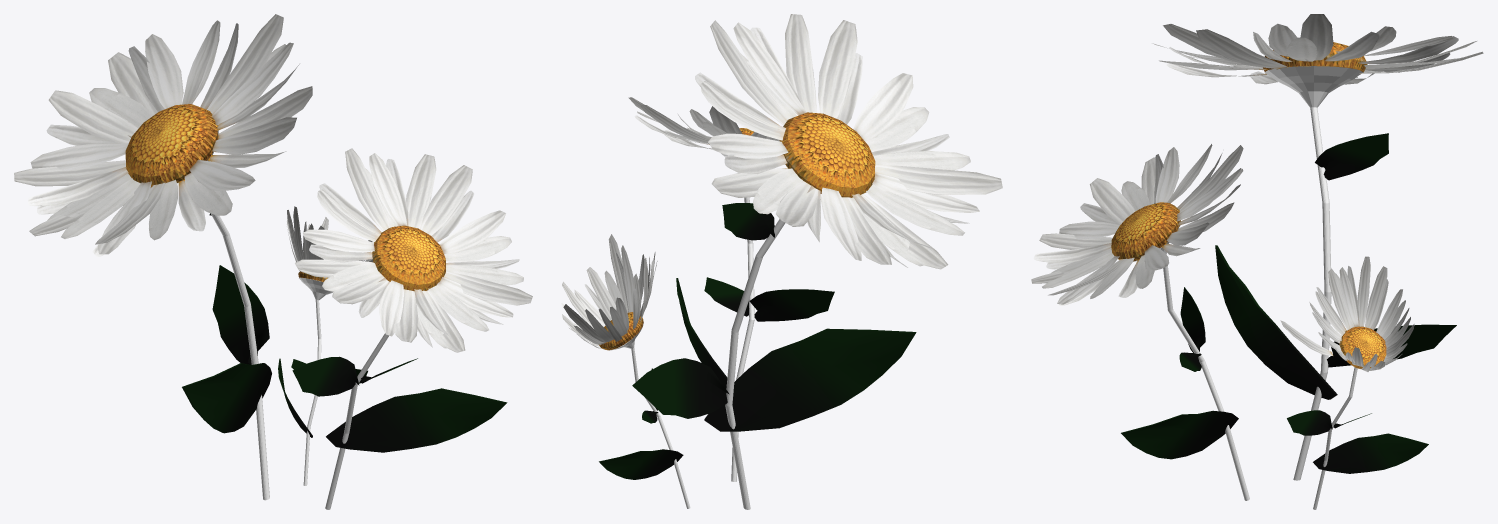
File: daisy_stage_02.FBX
The picture shows the model from 3 angles, left to right: view 1: azimuth 30°, elevation 25°; view 2: azimuth 150°, elevation 25°; view 3: azimuth 270°, elevation 25°; orthographic projection. The views are drawn at different scales.
Visible parts, largest first — view 1: Leaf004, Ovary, Leaf01, Ovary001, Leaf02, Petal_Layer_02_05, Petal_Layer_02_06, Daysy01, Leaf005, Petal_Layer_01_08, Petal_Layer_01_07, Petal_Layer_01_04 (+43 smaller); view 2: Leaf01, Ovary, Leaf02, Petal_Layer_02_07, Petal_Layer_01_01, Daysy01, Leaf005, Petal_Layer_03_06, Petal_Layer_01_05, Petal_Layer_01_04, Petal_Layer_02_06, Leaf009 (+27 smaller); view 3: Leaf01, Daysy01, Leaf004, Leaf009, Ovary001, Leaf03, Daisy02, Leaf02, Petal_Layer_03_06, Ovary002, Petal_Layer_02_015, Petal_Layer_02_06 (+25 smaller).
Boxes of the visible parts, bbox=[...] form: Leaf004: bbox=[326, 388, 507, 452]; Ovary: bbox=[125, 104, 217, 187]; Leaf01: bbox=[182, 363, 271, 433]; Ovary001: bbox=[372, 225, 445, 291]; Leaf02: bbox=[212, 265, 269, 364]; Petal_Layer_02_05: bbox=[48, 90, 138, 143]; Petal_Layer_02_06: bbox=[207, 14, 283, 114]; Daysy01: bbox=[177, 130, 269, 500]; Leaf005: bbox=[292, 356, 359, 396]; Petal_Layer_01_08: bbox=[145, 34, 183, 109]; Petal_Layer_01_07: bbox=[30, 143, 128, 170]; Petal_Layer_01_04: bbox=[211, 42, 293, 125]; Leaf01: bbox=[704, 328, 916, 431]; Ovary: bbox=[779, 112, 875, 197]; Leaf02: bbox=[632, 358, 729, 418]; Petal_Layer_02_07: bbox=[818, 20, 857, 118]; Petal_Layer_01_01: bbox=[875, 164, 1002, 194]; Daysy01: bbox=[725, 219, 785, 509]; Leaf005: bbox=[749, 289, 834, 321]; Petal_Layer_03_06: bbox=[785, 14, 816, 112]; Petal_Layer_01_05: bbox=[853, 73, 913, 141]; Petal_Layer_01_04: bbox=[733, 22, 806, 115]; Petal_Layer_02_06: bbox=[710, 20, 787, 125]; Leaf009: bbox=[599, 449, 683, 479]; Leaf01: bbox=[1215, 245, 1337, 399]; Daysy01: bbox=[1264, 66, 1362, 480]; Leaf004: bbox=[1121, 410, 1238, 459]; Leaf009: bbox=[1313, 433, 1428, 473]; Ovary001: bbox=[1111, 202, 1180, 261]; Leaf03: bbox=[1315, 133, 1388, 180]; Daisy02: bbox=[1133, 220, 1249, 500]; Leaf02: bbox=[1327, 324, 1456, 367]; Petal_Layer_03_06: bbox=[1196, 29, 1287, 69]; Ovary002: bbox=[1339, 326, 1386, 368]; Petal_Layer_02_015: bbox=[1089, 178, 1135, 224]; Petal_Layer_02_06: bbox=[1300, 14, 1333, 61].
Size of the model in its own units: 24.78 by 24.75 by 29.19.
2 materials, 1 textured.
